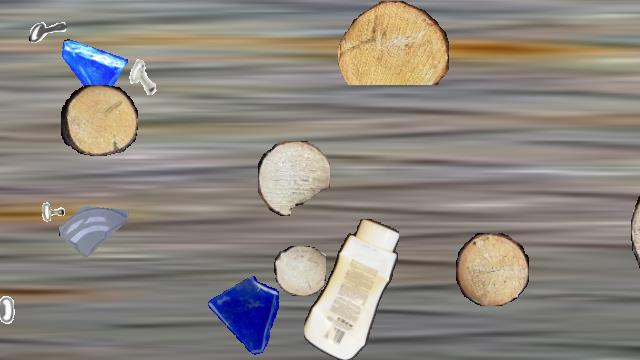glass: (204, 275, 288, 359), (59, 189, 131, 261), (58, 36, 128, 106)
metal: (118, 52, 170, 104), (26, 200, 74, 248), (29, 12, 67, 50), (0, 294, 17, 344)
plastic: (304, 219, 398, 359)
wood: (338, 1, 448, 85), (258, 141, 330, 215), (61, 85, 137, 155), (456, 233, 528, 305), (274, 246, 326, 296), (631, 168, 640, 288)
